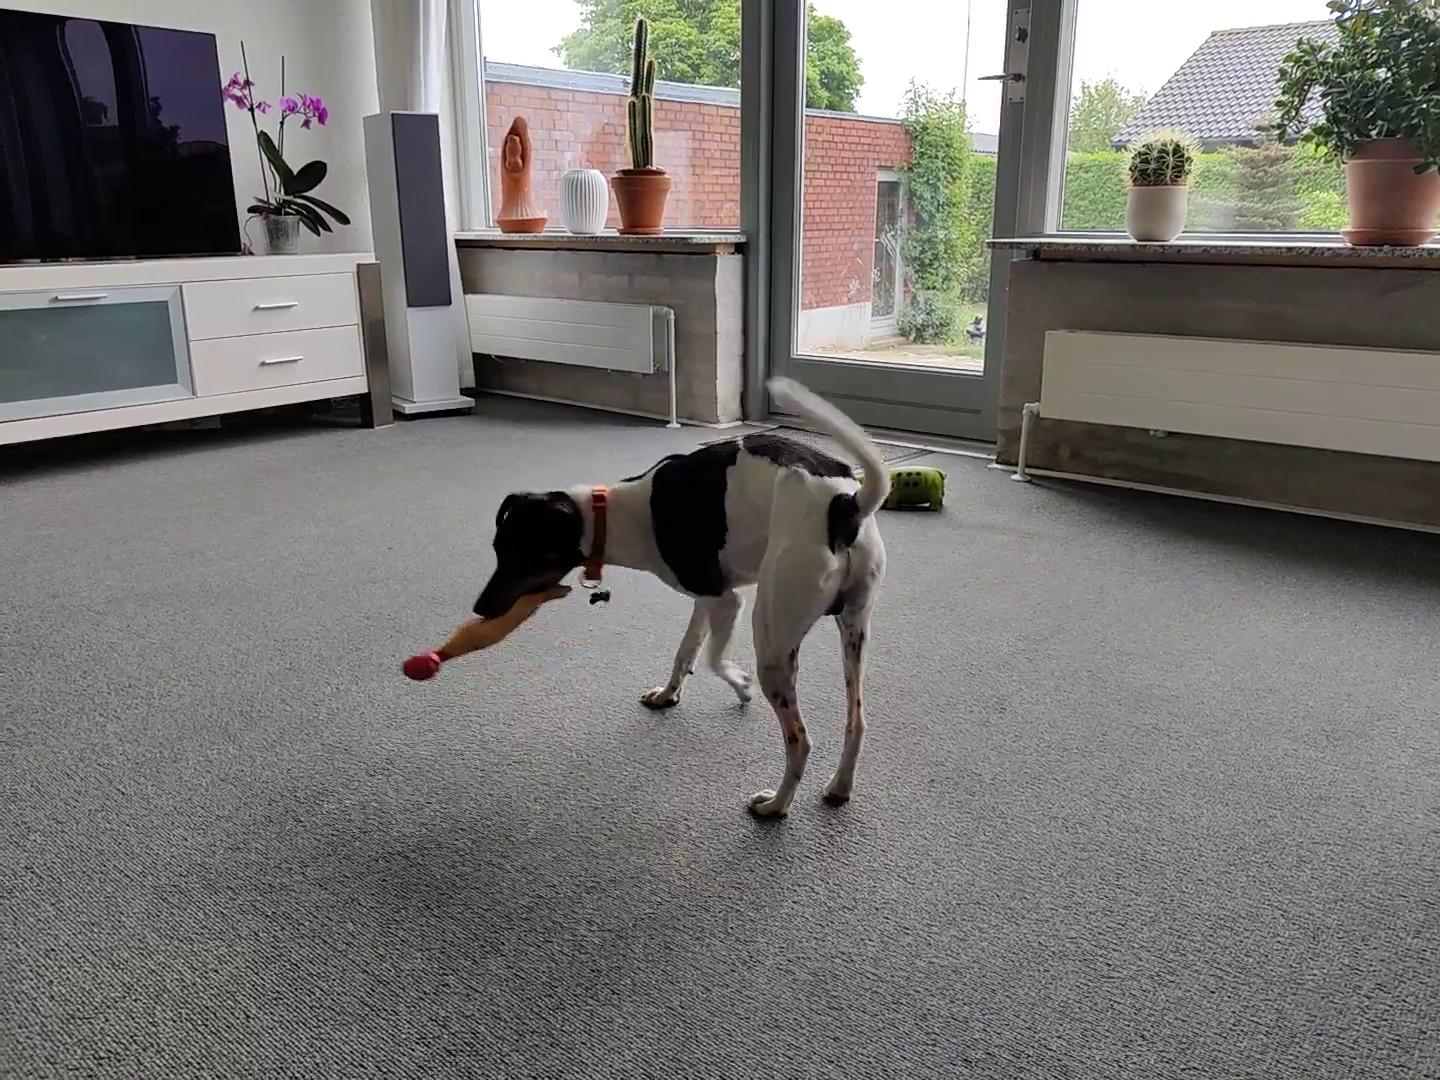Dog: (464, 370, 893, 822)
